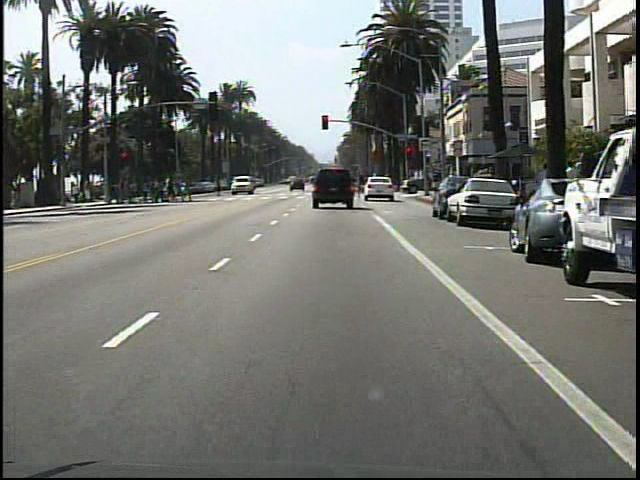person: (210, 172, 230, 201)
